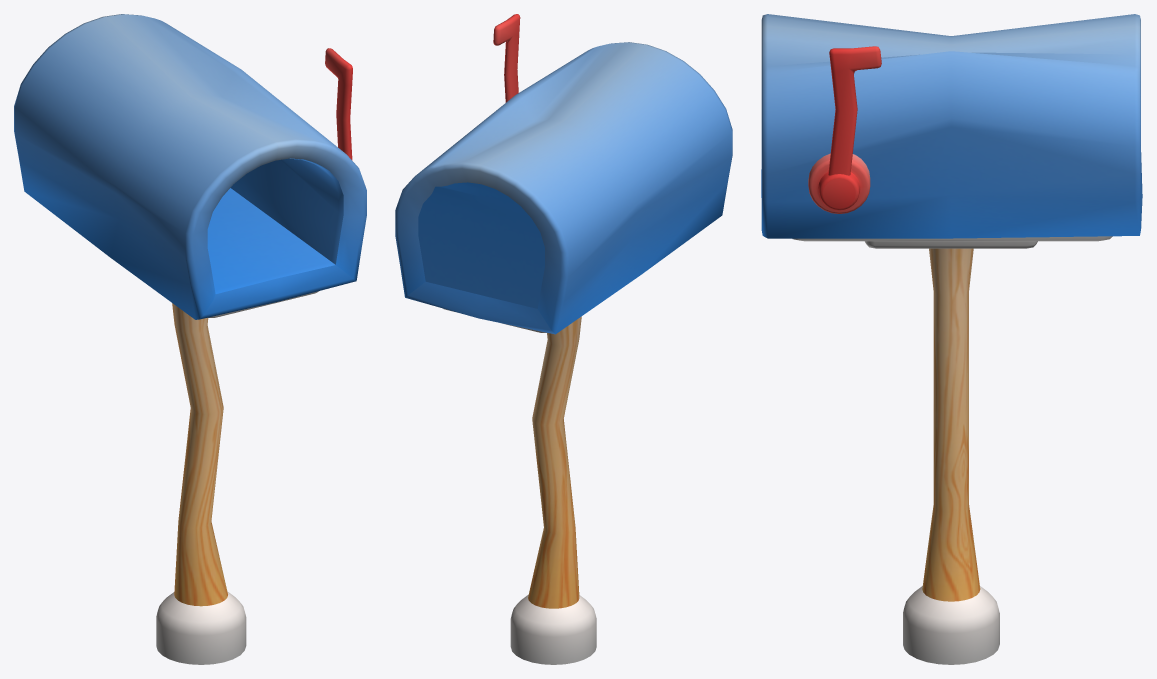
Rendered from Mailbox_A_blue.fbx.
3 views of the same model, side by side, from view 1: azimuth 30°, elevation 25°; view 2: azimuth 150°, elevation 25°; view 3: azimuth 270°, elevation 25° (orthographic). The views are drawn at different scales.
Visible parts, largest first — view 1: MailboxA_blue; view 2: MailboxA_blue; view 3: MailboxA_blue.
Boxes of the visible parts, x1,y1,x2,y2 form: MailboxA_blue: (14, 14, 366, 664); MailboxA_blue: (395, 14, 732, 664); MailboxA_blue: (761, 14, 1142, 664).
Size of the model in its own units: 1.07 by 1.64 by 3.07.
